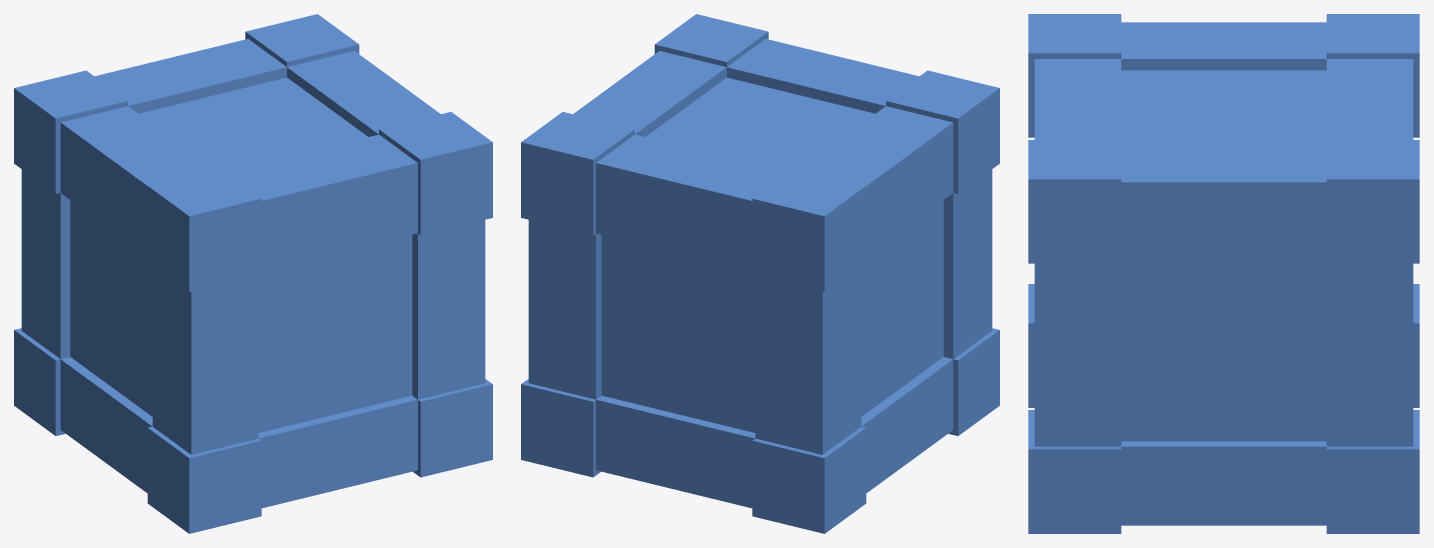
File: Box-Wooden.fbx
The picture shows the model from 3 angles, left to right: view 1: azimuth 30°, elevation 25°; view 2: azimuth 150°, elevation 25°; view 3: azimuth 270°, elevation 25°; orthographic projection. The views are drawn at different scales.
Visible parts, largest first — view 1: 000-0-0; view 2: 000-0-0; view 3: 000-0-0.
Part boxes in pixels (x1,y1,x2,y2): 000-0-0: [14, 14, 492, 533]; 000-0-0: [521, 14, 999, 533]; 000-0-0: [1028, 14, 1419, 533].
Bounding box in the file's own units: 2 × 2 × 2.
